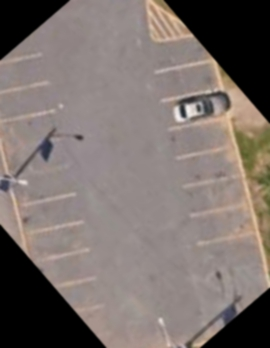parkingspot: (0, 23, 122, 348), (138, 31, 263, 251)
